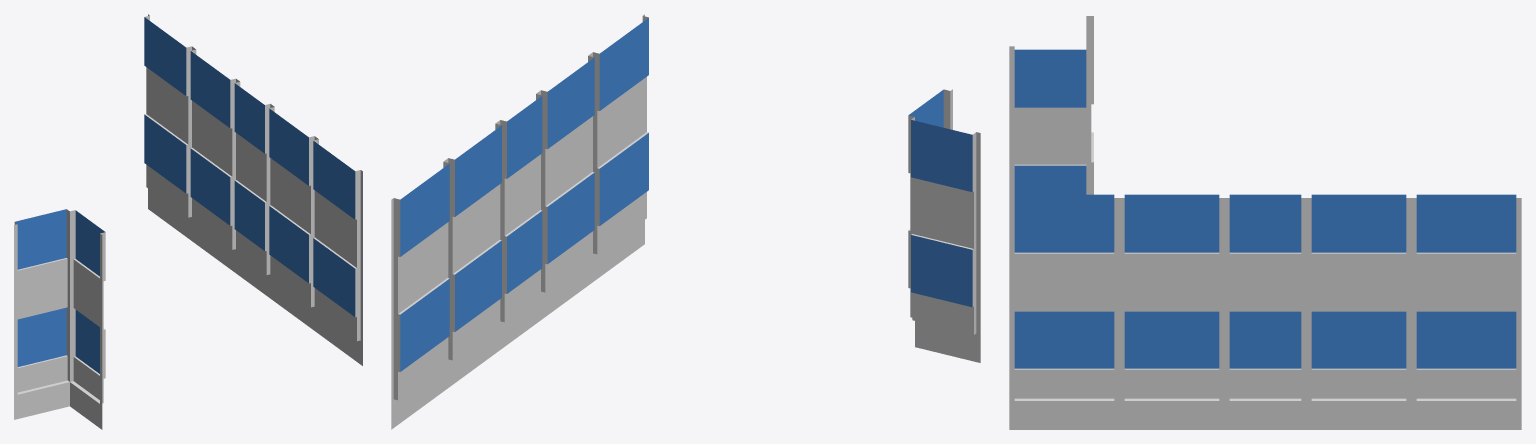
3 renders of one model, left to right at view 1: azimuth 30°, elevation 25°; view 2: azimuth 150°, elevation 25°; view 3: azimuth 270°, elevation 25°, orthographic. The views are drawn at different scales.
Parts seen in each view (by area): view 1: 05a_Base; view 2: 05a_Base; view 3: 05a_Base.
Part boxes in pixels (left/top/right/bottom): 05a_Base: left=14, top=14, right=362, bottom=429; 05a_Base: left=391, top=14, right=980, bottom=429; 05a_Base: left=1009, top=16, right=1521, bottom=429.
Bounding box in the file's own units: 42.5 × 25 × 50.
